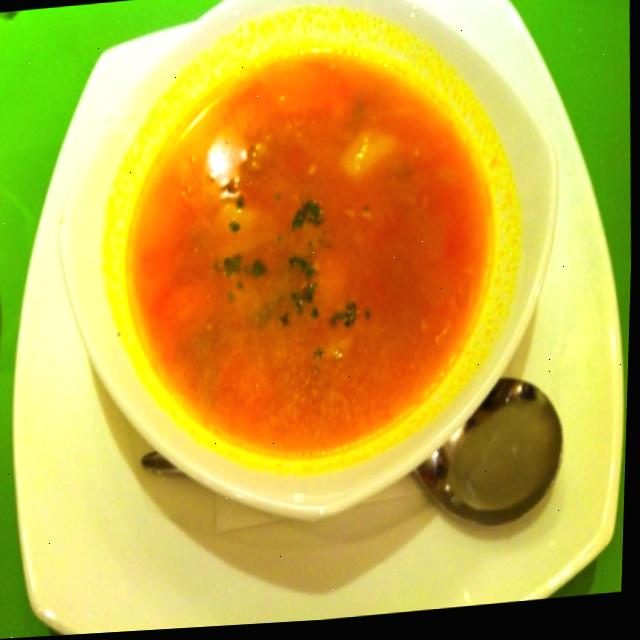汤锅炖物: (33, 0, 587, 566)
